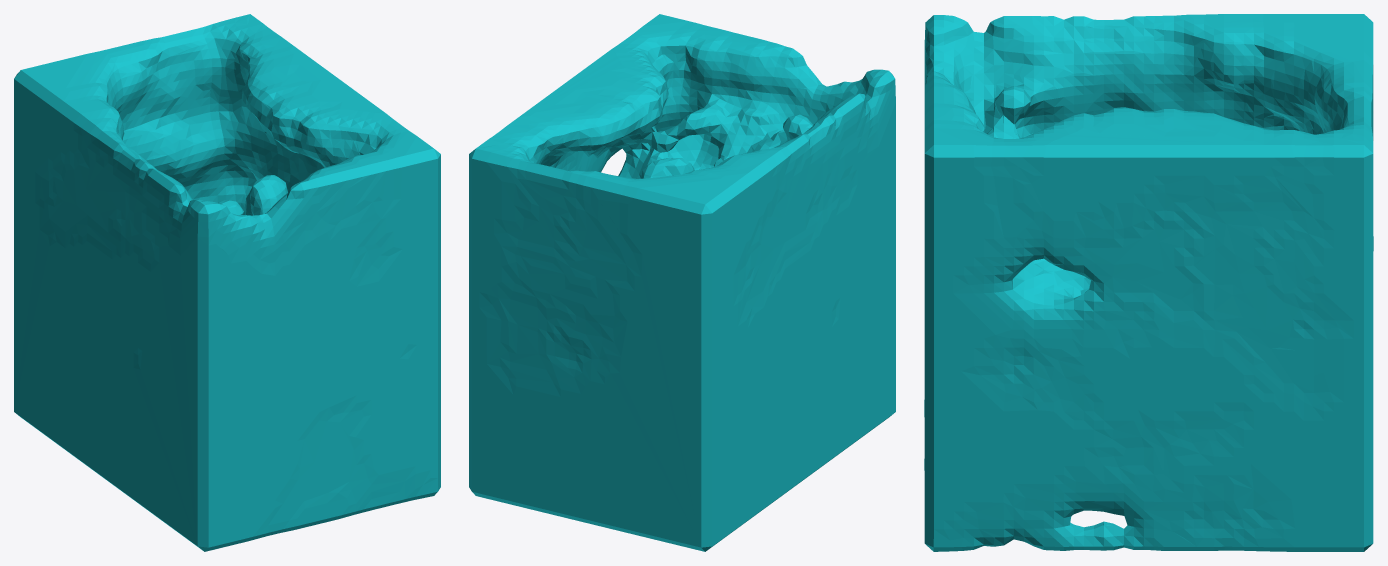
The picture shows the model from 3 angles, left to right: view 1: azimuth 30°, elevation 25°; view 2: azimuth 150°, elevation 25°; view 3: azimuth 270°, elevation 25°; orthographic projection. The views are drawn at different scales.
Visible parts, largest first — view 1: Liquid_Domain; view 2: Liquid_Domain; view 3: Liquid_Domain.
Part boxes in pixels (x1,y1,x2,y2): Liquid_Domain: [14, 14, 440, 551]; Liquid_Domain: [469, 14, 895, 551]; Liquid_Domain: [924, 14, 1373, 551].
Bounding box in the file's own units: 79.09 × 108 × 108.
